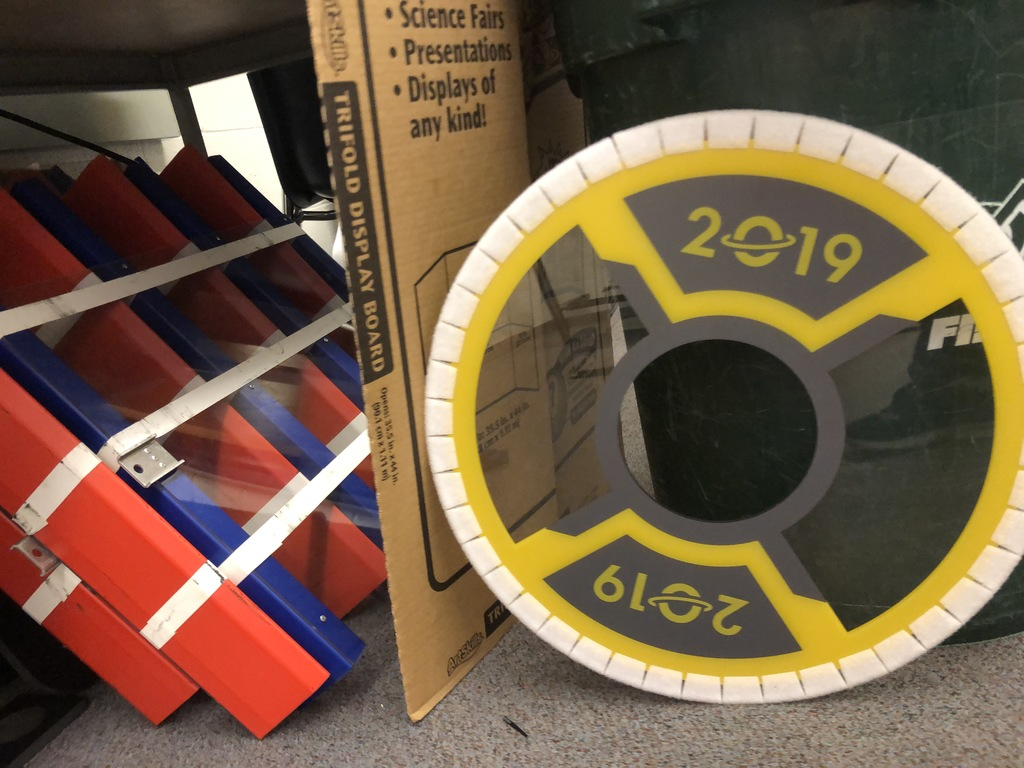hatch_panel: (405, 93, 1024, 751)
